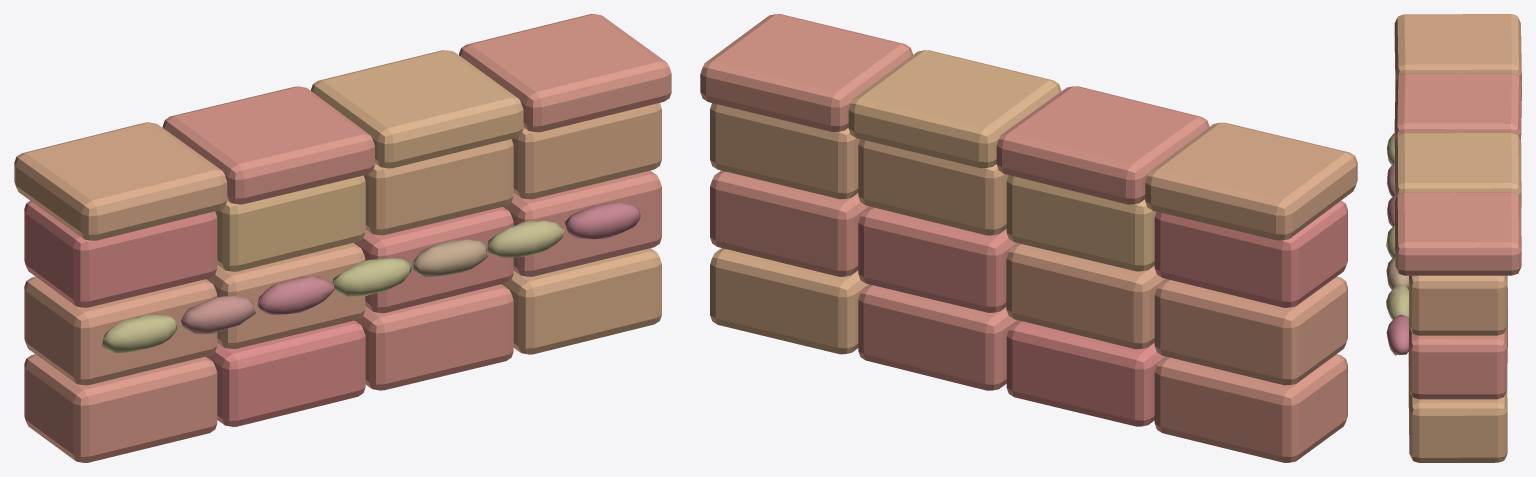
Rendered from WC_RIVER_Bank_Vegetation_A.glb.
The picture shows the model from 3 angles, left to right: view 1: azimuth 30°, elevation 25°; view 2: azimuth 150°, elevation 25°; view 3: azimuth 270°, elevation 25°; orthographic projection. The views are drawn at different scales.
Visible parts, largest first — view 1: WC_RIVER_Bank_Vegetation_A_RenderMesh; view 2: WC_RIVER_Bank_Vegetation_A_RenderMesh; view 3: WC_RIVER_Bank_Vegetation_A_RenderMesh.
Part boxes in pixels (x1,y1,x2,y2): WC_RIVER_Bank_Vegetation_A_RenderMesh: [14, 14, 671, 462]; WC_RIVER_Bank_Vegetation_A_RenderMesh: [700, 14, 1357, 462]; WC_RIVER_Bank_Vegetation_A_RenderMesh: [1386, 14, 1521, 462].
Size of the model in its own units: 1.99 by 0.8675 by 0.4836.
